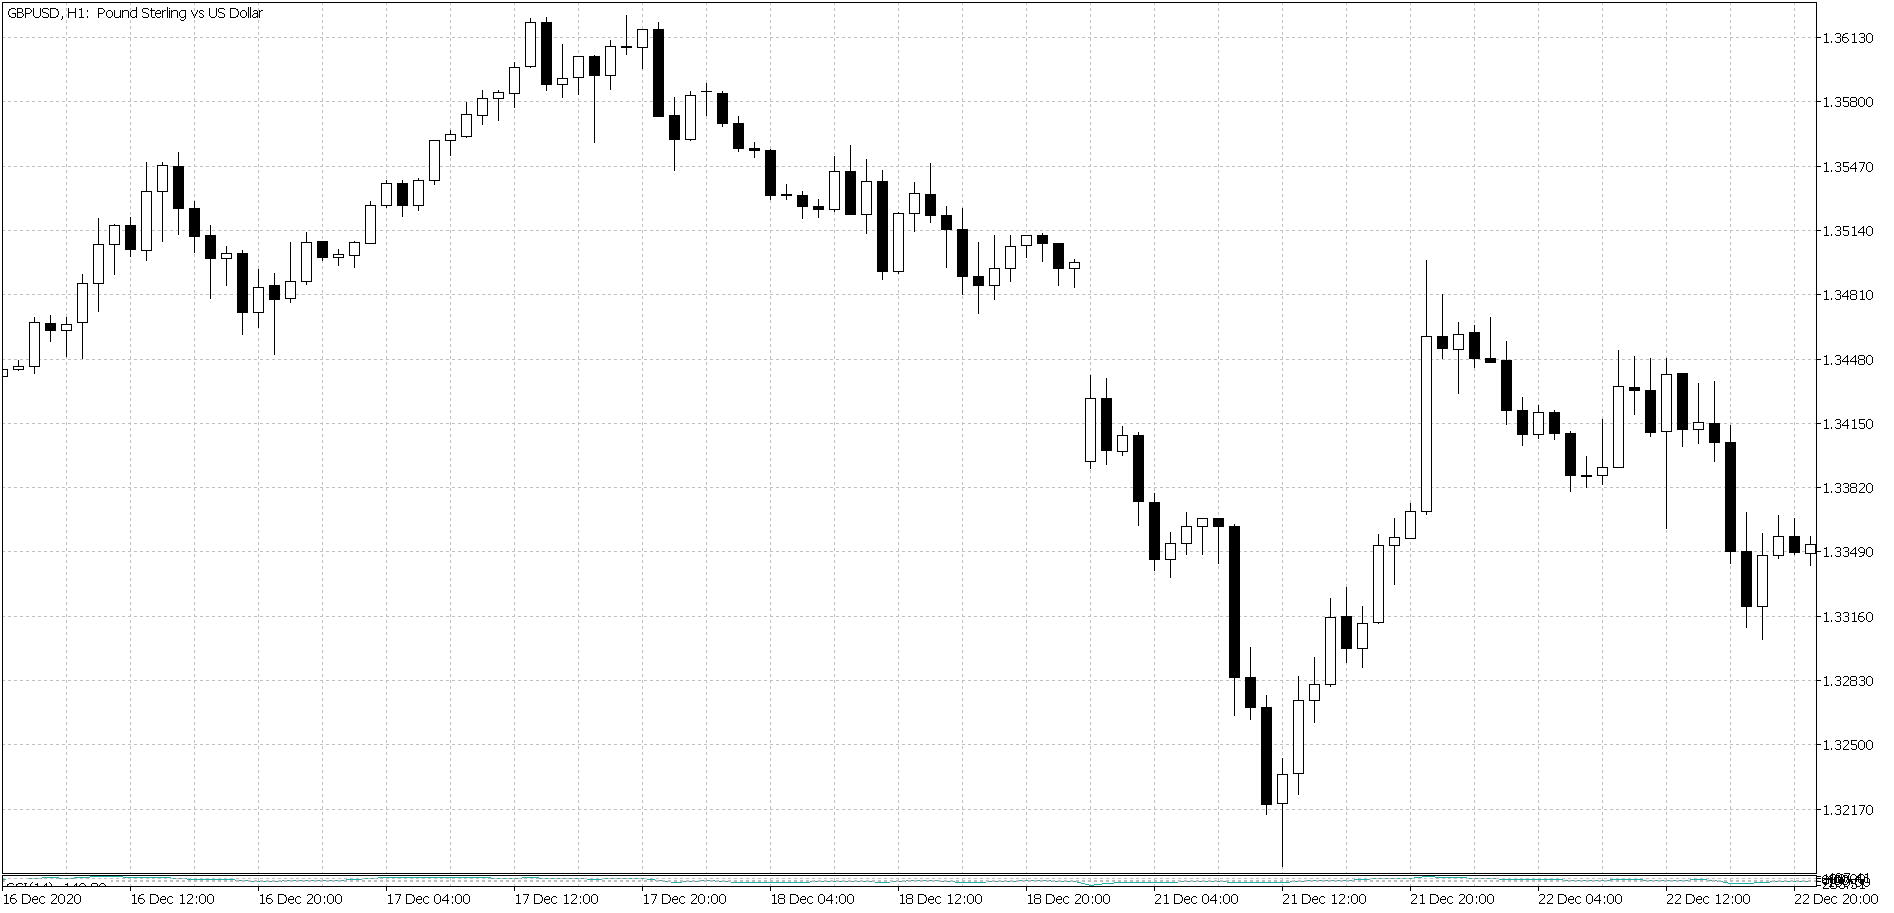eveningDojiStar: (682, 80, 731, 159)
hammer: (1195, 511, 1209, 557)
hangingMan: (586, 50, 603, 147), (1213, 513, 1226, 563)
shootingStar: (1485, 306, 1498, 374)
